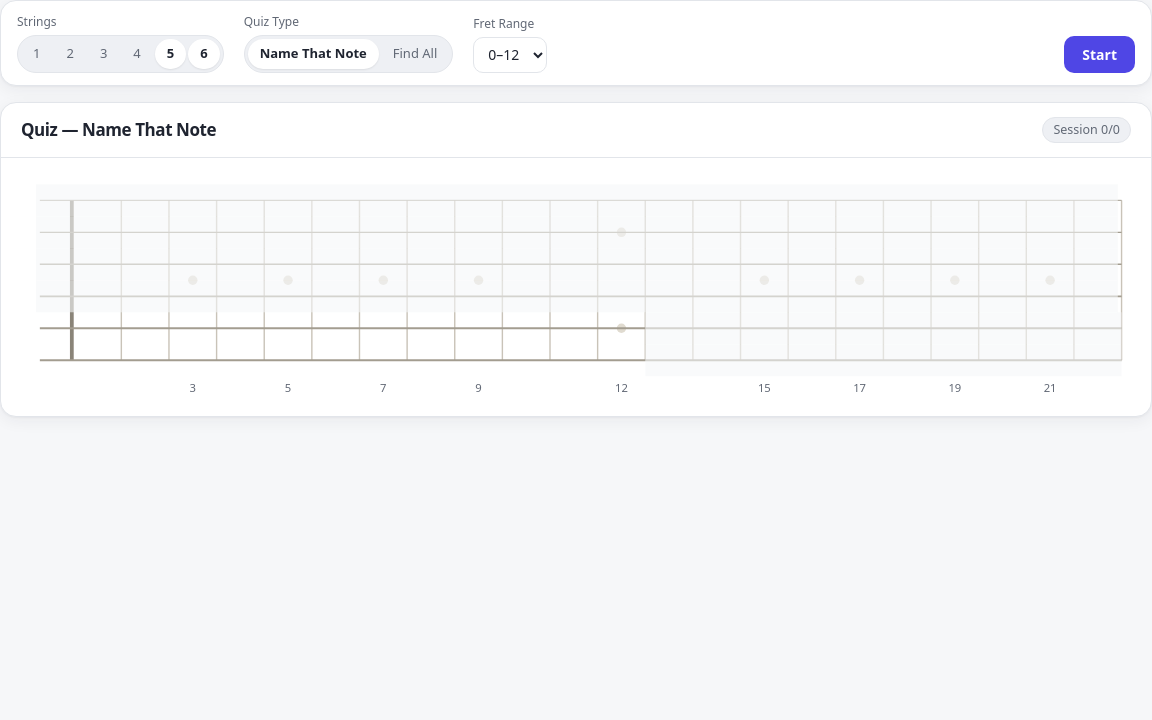
Scenario: Quiz — 세션 카운터 › keeps session counters per quiz mode
The image size is (1152, 720).
Step 1. Click the button "Start" → coordinates (1100, 54), box [1064,36,1135,72]
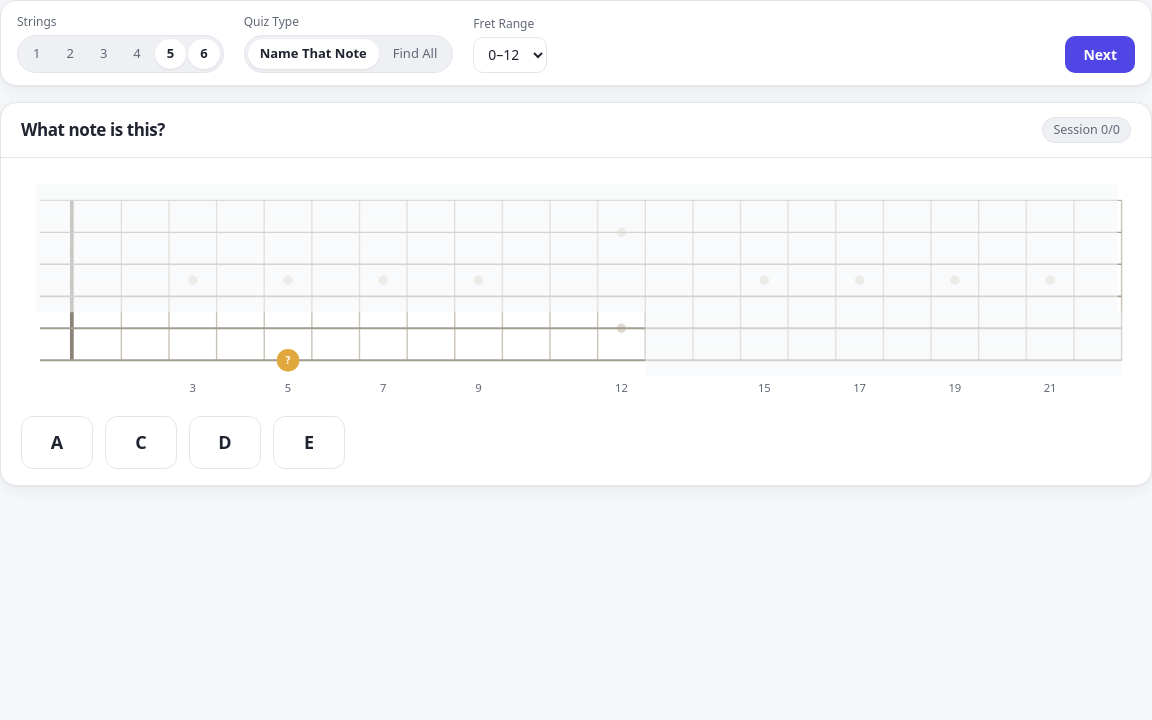
Step 2. Click the button "A" → coordinates (57, 442), box [21,416,93,469]
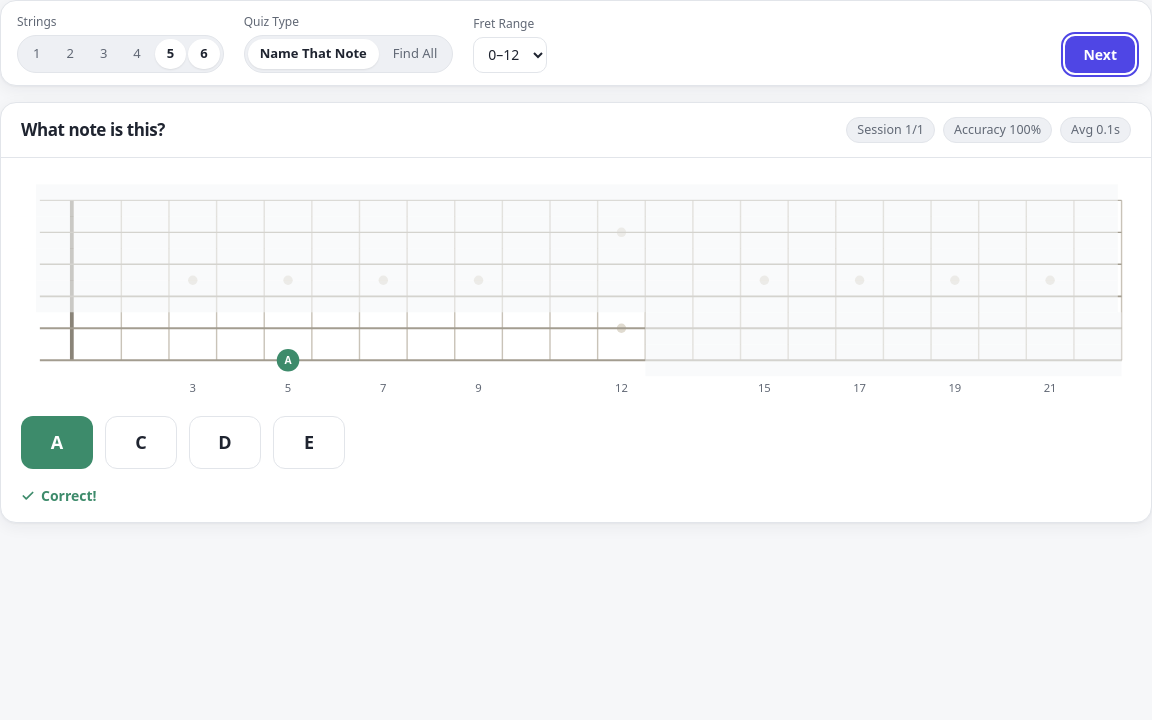
Expected: the text "Session 1/1" is shown, [846,116,935,143]
Step 3. Click the button "Find All" → coordinates (415, 54), box [381,39,449,68]
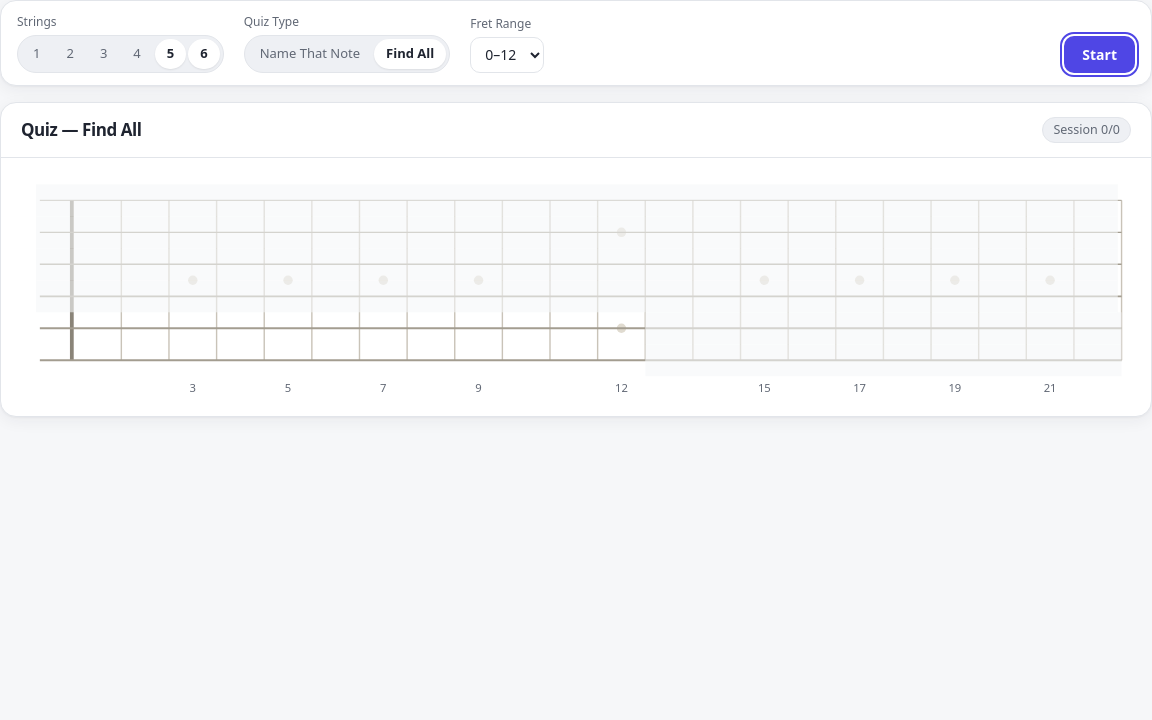
Expected: the text "Session 0/0" is shown, [1042,116,1131,143]
